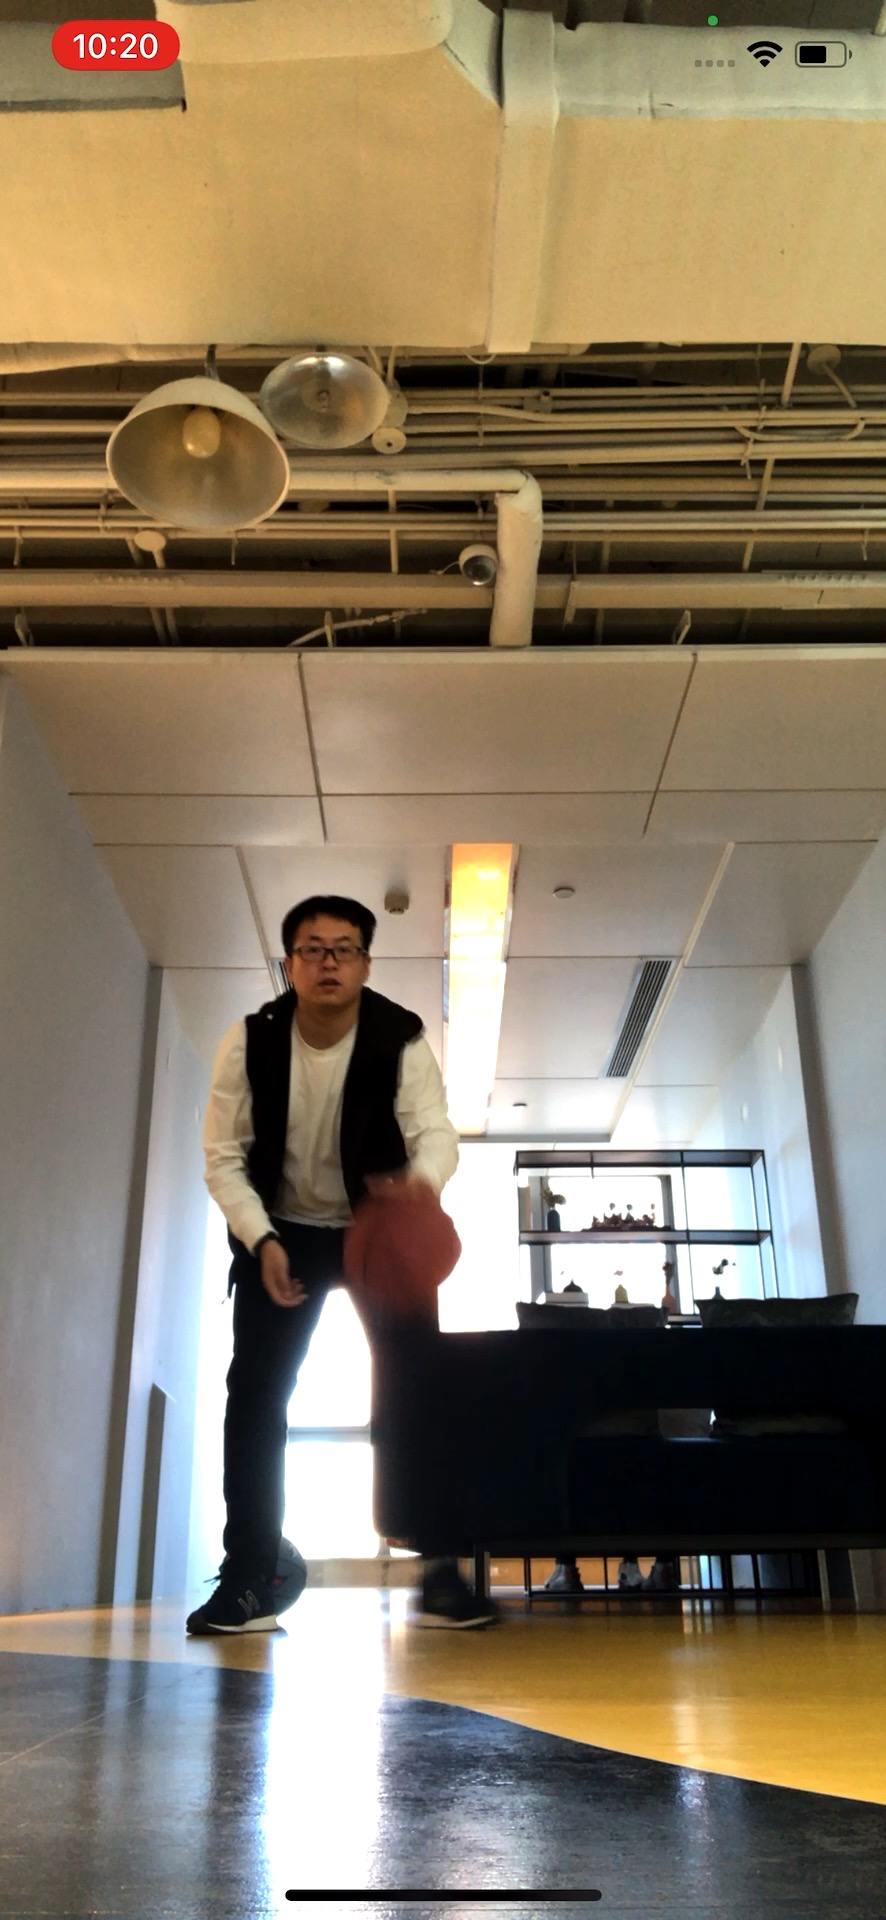ball: (345, 1198, 463, 1310)
